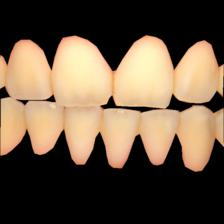cavity: (109, 71, 119, 92), (171, 71, 180, 94), (47, 71, 56, 94), (98, 110, 106, 133)
tooth: (49, 36, 114, 107), (113, 32, 171, 108), (178, 106, 224, 173), (176, 35, 220, 104), (7, 39, 54, 100), (24, 102, 69, 156), (63, 107, 102, 166), (140, 112, 180, 166), (102, 108, 137, 169), (1, 98, 24, 157)
